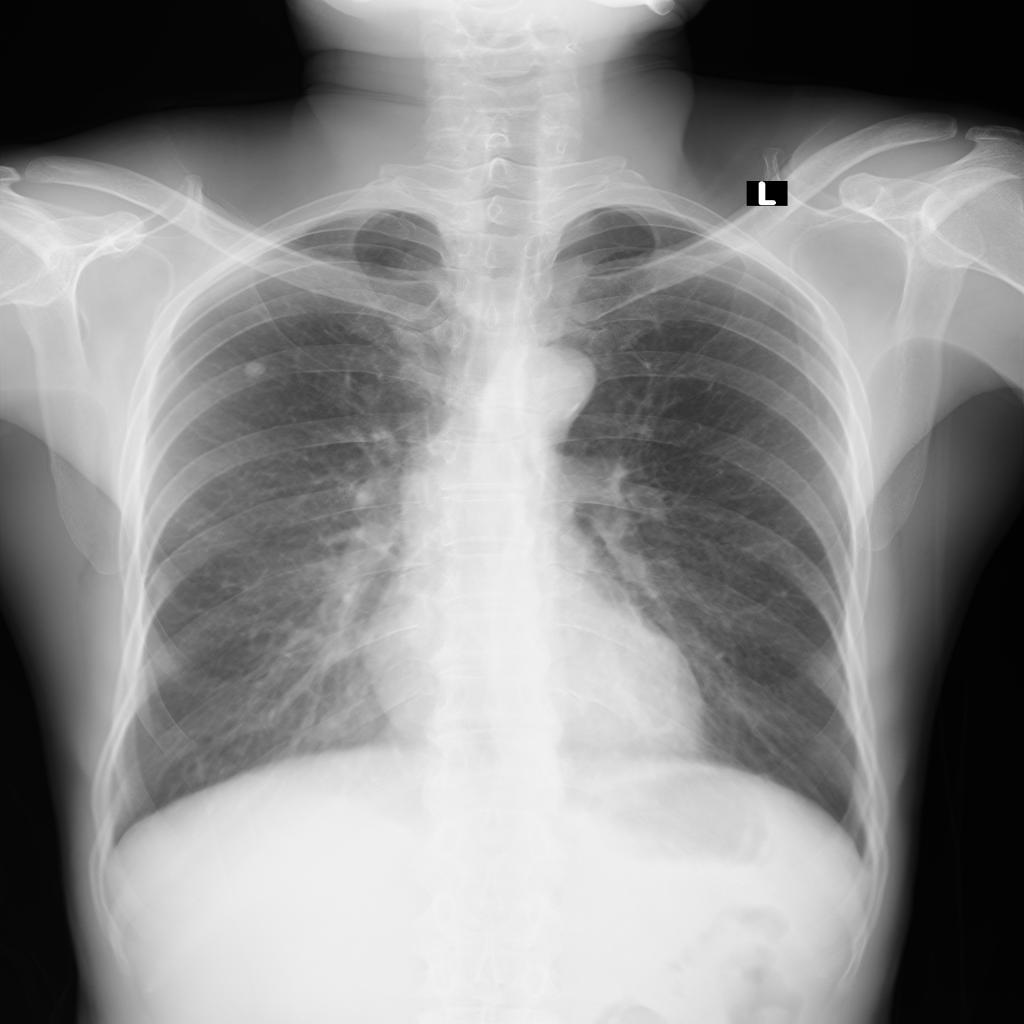Nodule: (243, 362, 268, 376)
